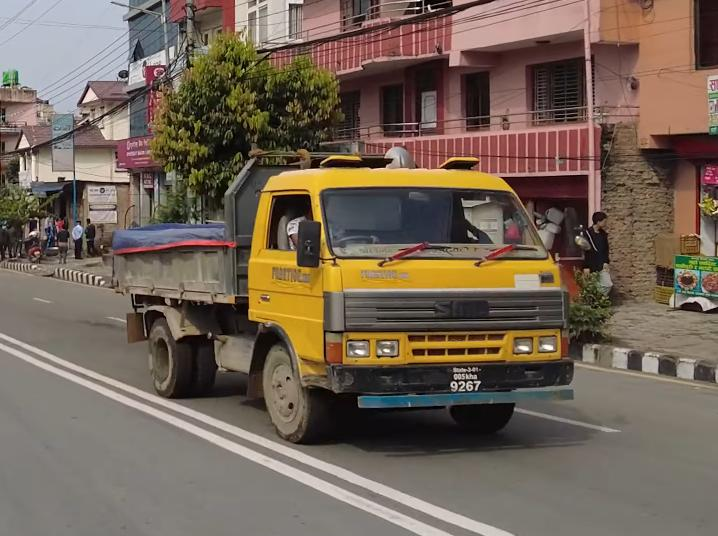mini_truck: (104, 142, 584, 448)
